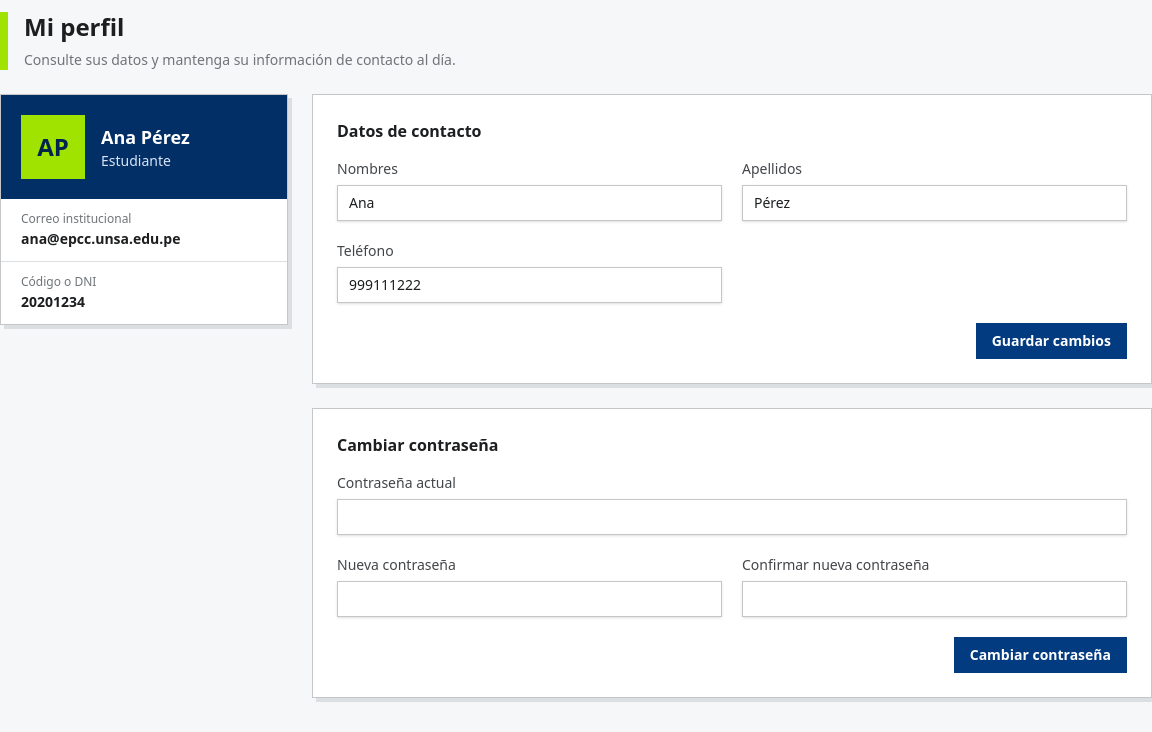
Scenario: ProfilePage › valida que las contraseñas nuevas coincidan
The image size is (1152, 732).
Expected: the text "ana@epcc.unsa.edu.pe" is shown, [21, 229, 180, 248]
In the password field labelled "Contraseña actual": (732, 517) [337, 499, 1127, 535], type "Clave1234"
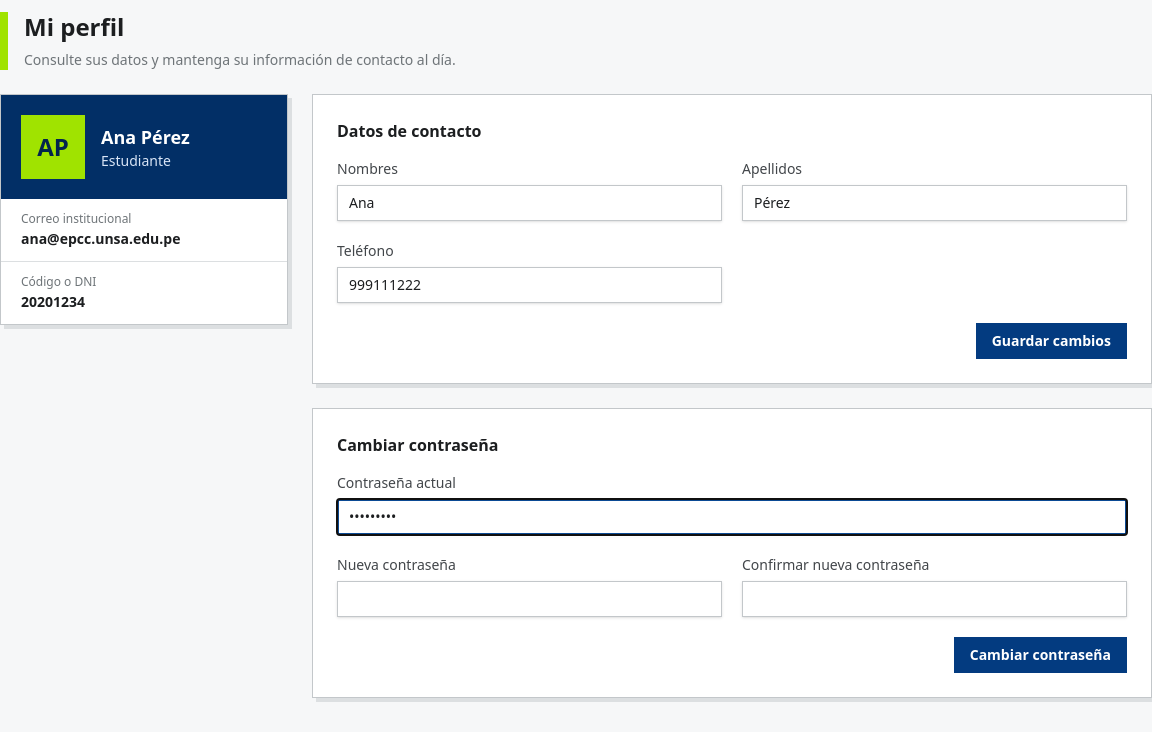
In the password field labelled "Nueva contraseña": (530, 599) [337, 581, 722, 617], type "NuevaClave99"
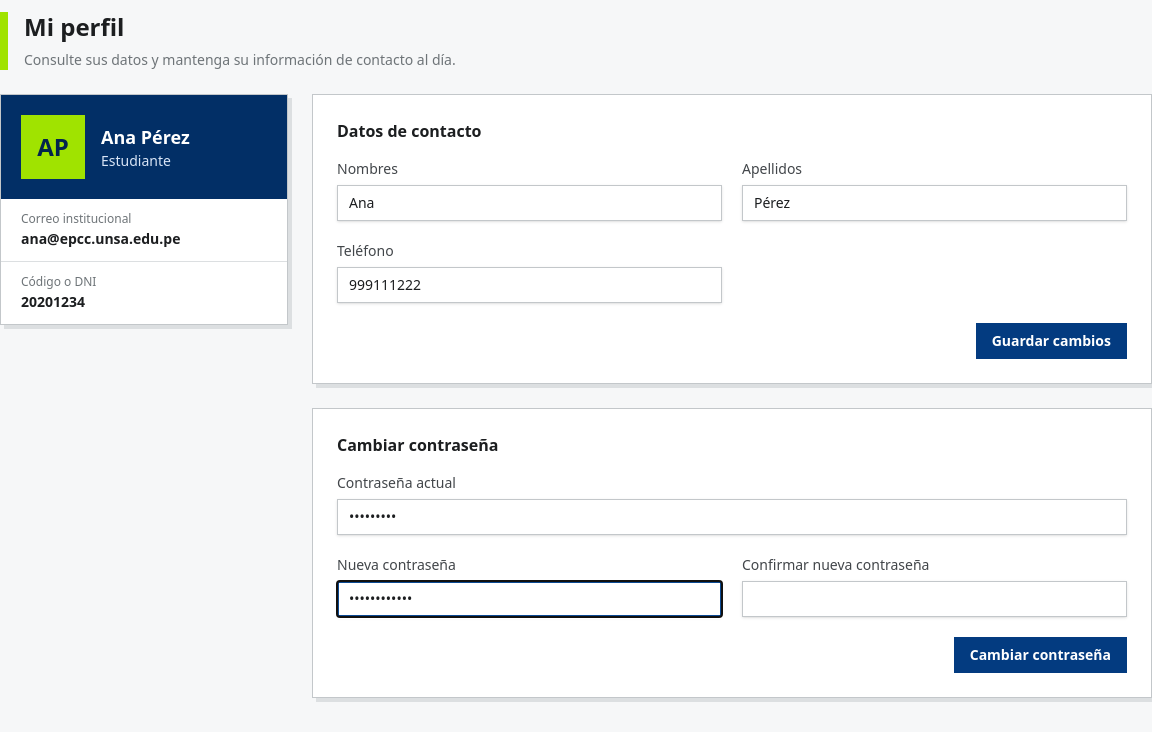
In the password field labelled "Confirmar nueva contraseña": (934, 599) [742, 581, 1127, 617], type "Distinta99"
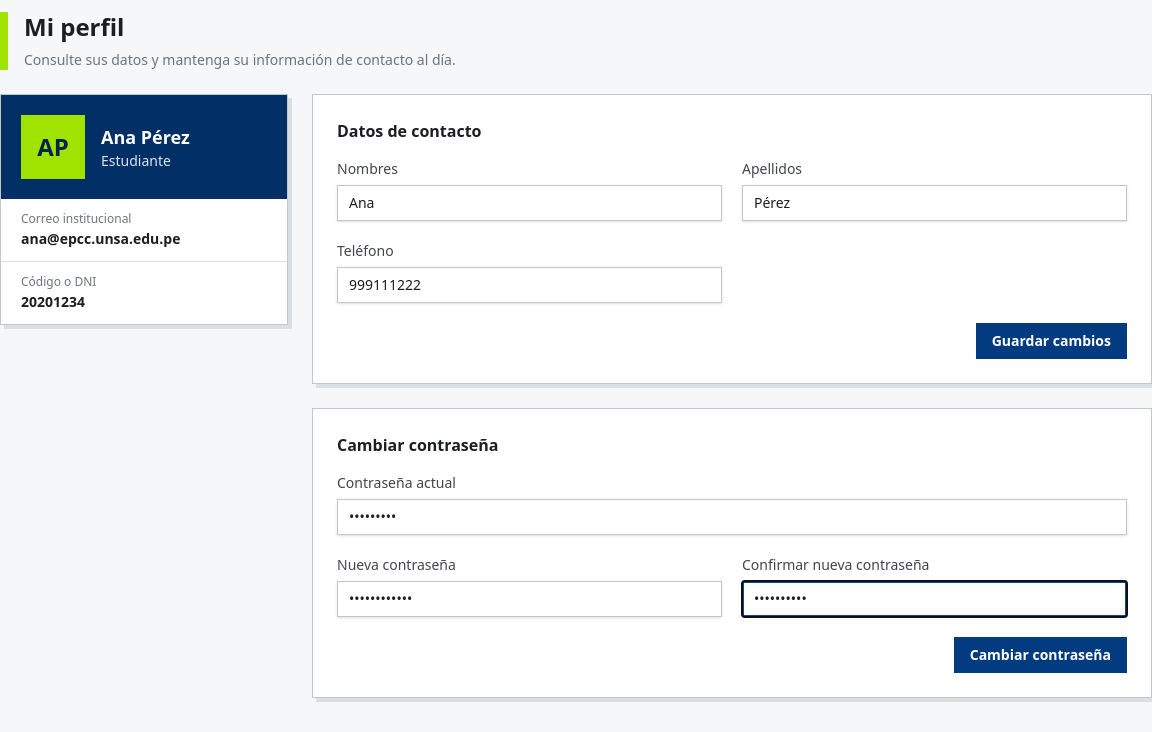
Click the button "Cambiar contraseña": (1040, 655) [954, 637, 1127, 673]
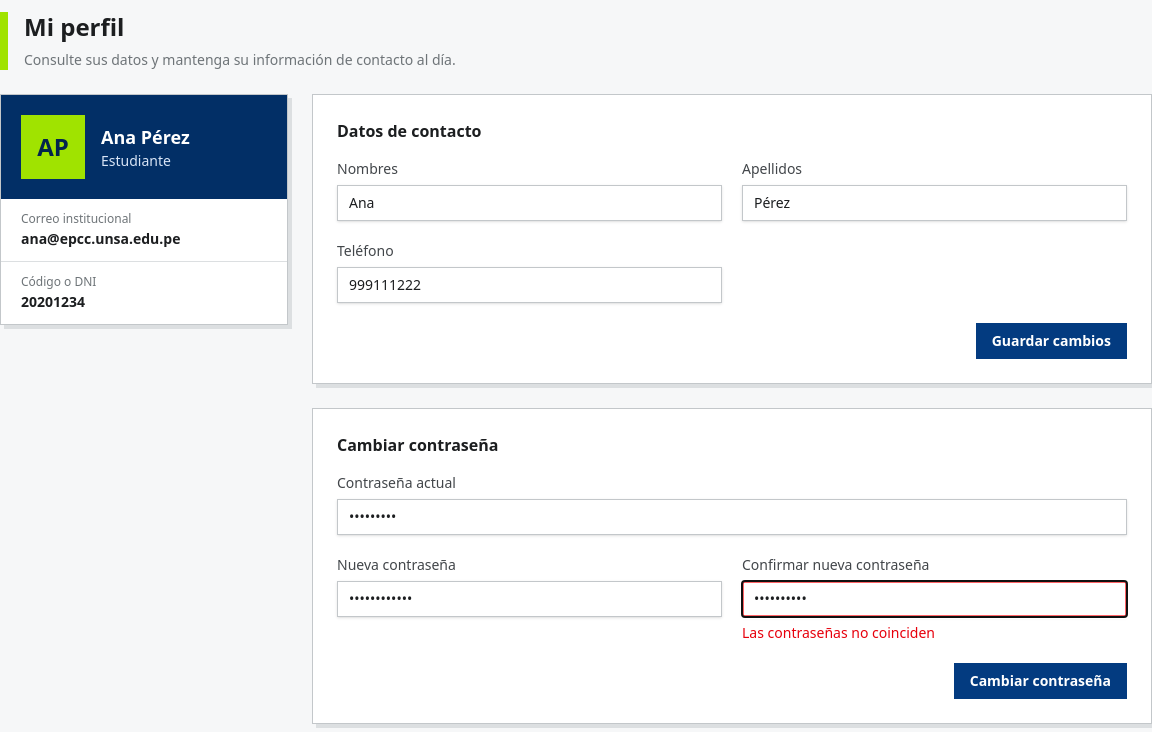
Result: the text "Las contraseñas no coinciden" is shown at [742, 623, 935, 642]
